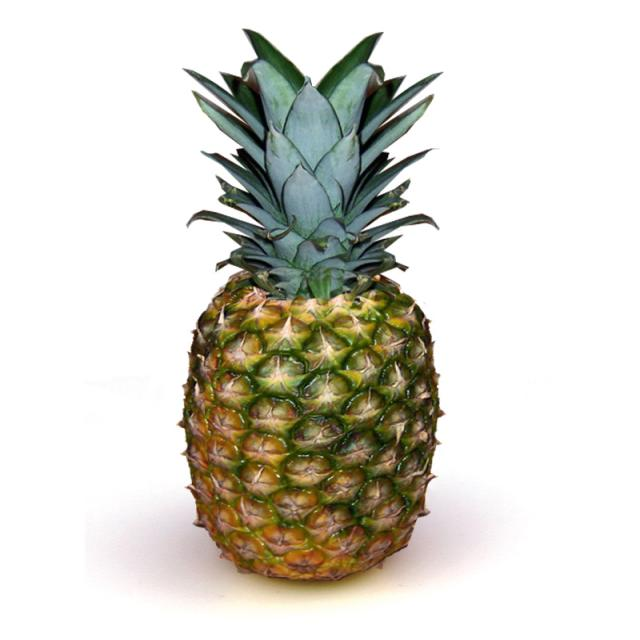pineapple: (159, 225, 468, 588)
